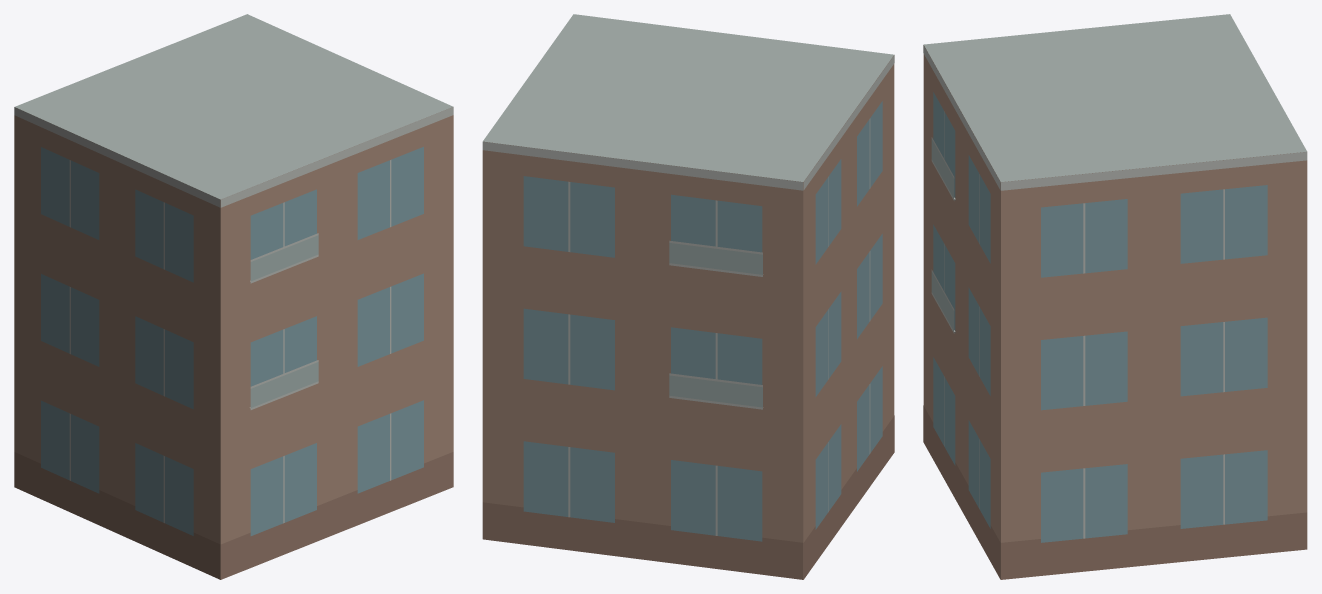
Rendered from survey-upis-33037341.glb.
3 renders of one model, left to right at view 1: azimuth 30°, elevation 25°; view 2: azimuth 150°, elevation 25°; view 3: azimuth 270°, elevation 25°, orthographic. The views are drawn at different scales.
Visible parts, largest first — view 1: survey-upis-33037341.tmp; view 2: survey-upis-33037341.tmp; view 3: survey-upis-33037341.tmp.
Boxes of the visible parts, left/top/right/bottom form: survey-upis-33037341.tmp: left=14, top=14, right=453, bottom=579; survey-upis-33037341.tmp: left=482, top=14, right=894, bottom=579; survey-upis-33037341.tmp: left=923, top=14, right=1307, bottom=579.
Bounding box in the file's own units: 10.17 × 11.2 × 9.81.
